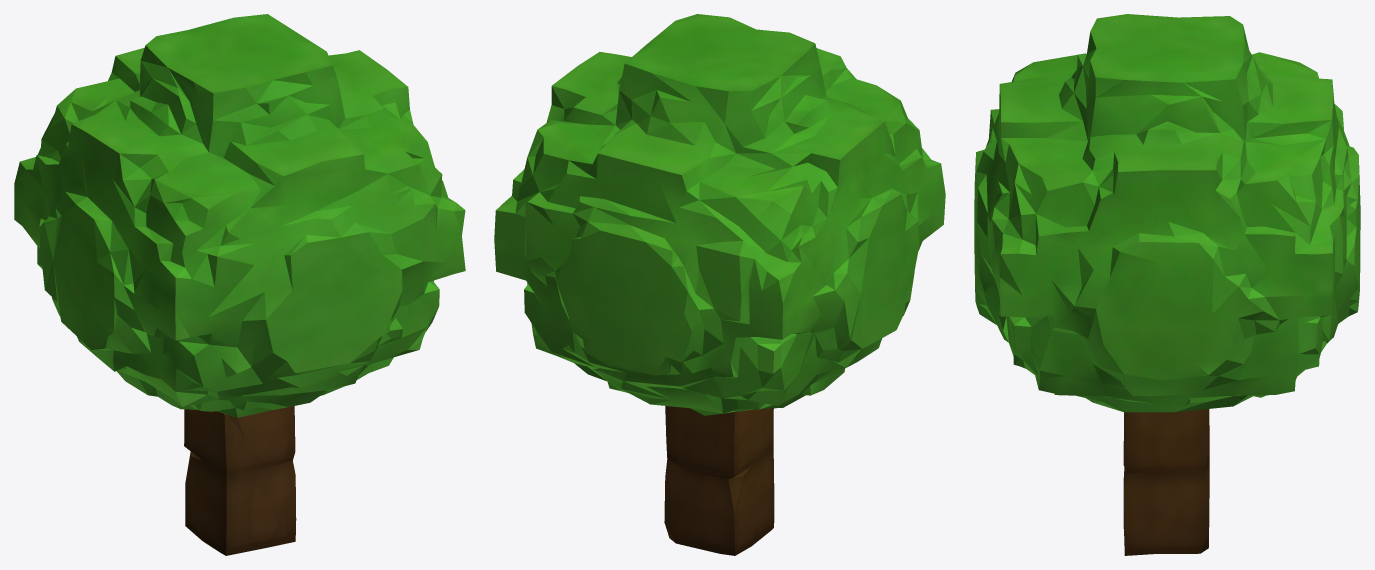
The model's file is tree_broadleaf.glb.
3 renders of one model, left to right at view 1: azimuth 30°, elevation 25°; view 2: azimuth 150°, elevation 25°; view 3: azimuth 270°, elevation 25°, orthographic.
Parts seen in each view (by area): view 1: Mesh; view 2: Mesh; view 3: Mesh.
Boxes of the visible parts, x1,y1,x2,y2 form: Mesh: (14, 14, 465, 555); Mesh: (494, 14, 945, 555); Mesh: (974, 14, 1360, 555).
Bounding box in the file's own units: 1.33 × 1.88 × 1.34.
Materials: 1 (1 with a texture image).
